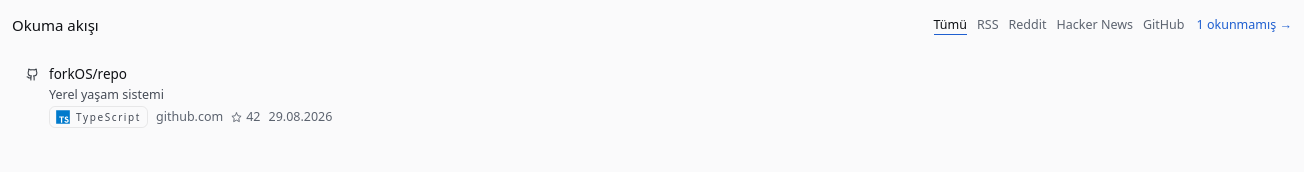
Scenario: FeedStreamWidget source isolation › unrelated source is loading does not mask a resolved empty selected feed
The width and height of the screenshot is (1304, 172).
Click the button "RSS" at (988, 25), box x1=977 y1=16 x2=998 y2=34
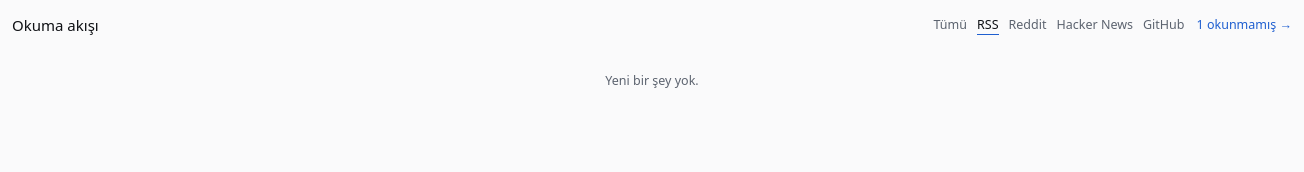
Result: the text "Yeni bir şey yok." is shown at x1=605 y1=72 x2=699 y2=89
